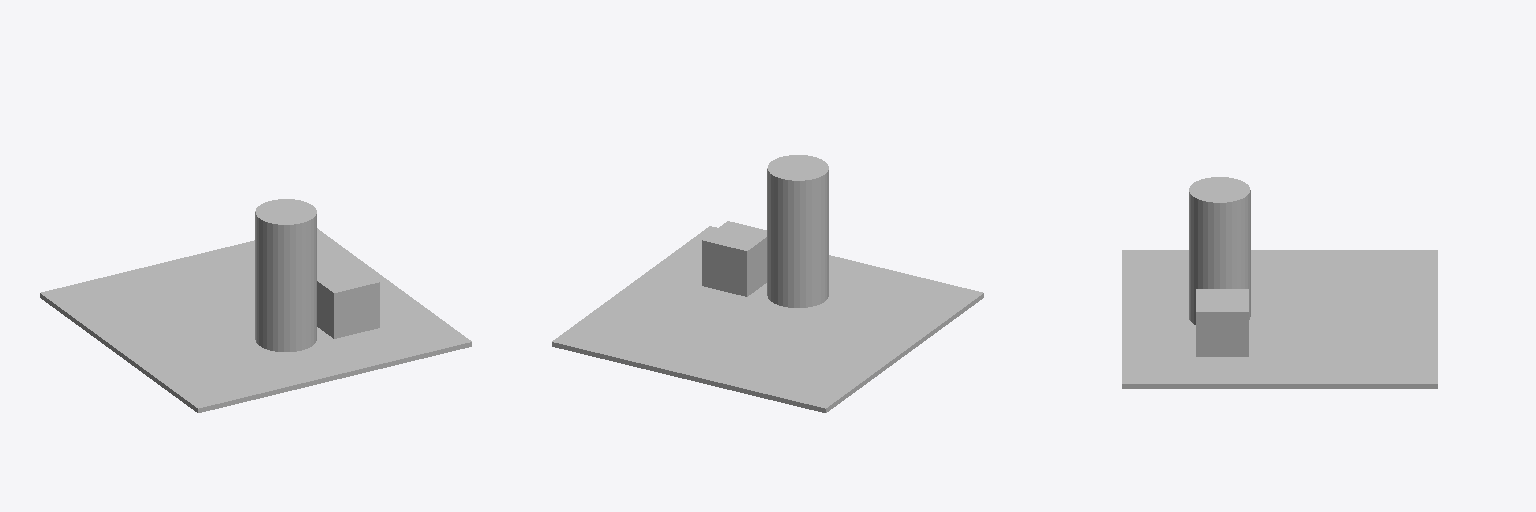
File: SceneM.obj
3 views of the same model, side by side, from view 1: azimuth 30°, elevation 25°; view 2: azimuth 150°, elevation 25°; view 3: azimuth 270°, elevation 25° (orthographic).
Parts seen in each view (by area): view 1: Cube, Cylinder, Cube.001; view 2: Cube, Cylinder, Cube.001; view 3: Cube, Cylinder, Cube.001.
Part boxes in pixels (x1,y1,x2,y2): Cube: (40, 228, 471, 412); Cylinder: (255, 199, 316, 351); Cube.001: (317, 263, 379, 338); Cube: (552, 226, 983, 412); Cylinder: (767, 155, 828, 307); Cube.001: (702, 221, 766, 296); Cube: (1122, 250, 1437, 388); Cylinder: (1189, 177, 1250, 324); Cube.001: (1196, 289, 1248, 356).
Size of the model in its own units: 12 by 5.53 by 12.